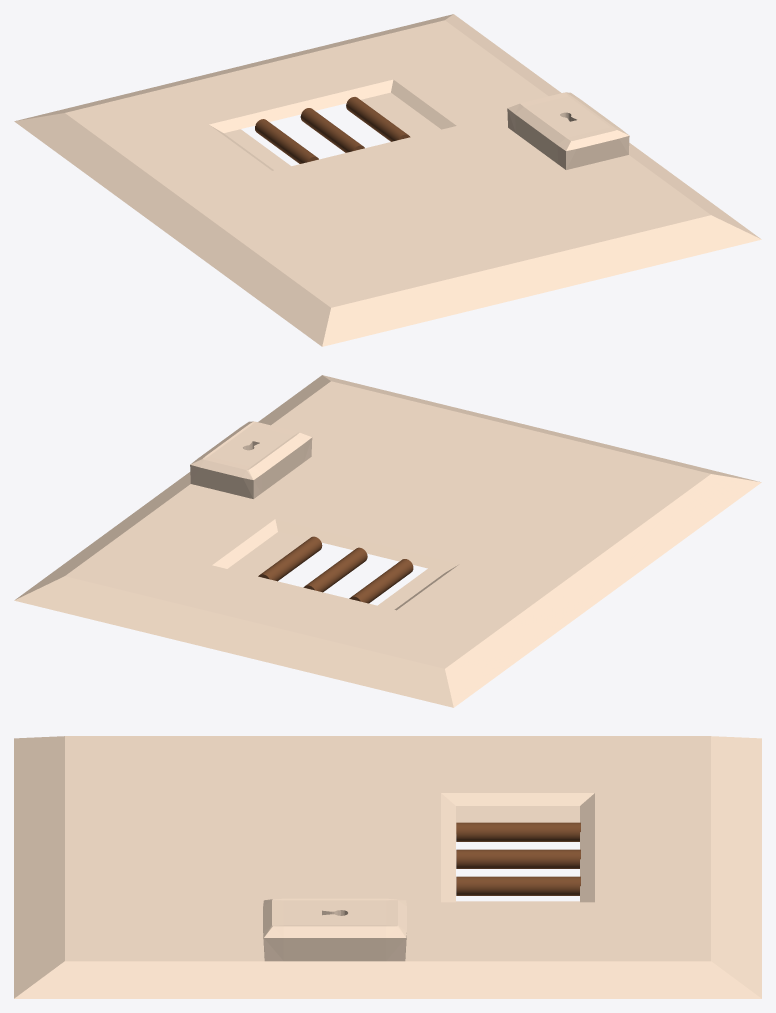
File: rouya.fbx
3 views of the same model, one above another, from view 1: azimuth 30°, elevation 25°; view 2: azimuth 150°, elevation 25°; view 3: azimuth 270°, elevation 25° (orthographic). The views are drawn at different scales.
Visible parts, largest first — view 1: pCube1, pCylinder2, pCylinder1, pCylinder3; view 2: pCube1, pCylinder1, pCylinder2, pCylinder3; view 3: pCube1, pCylinder2, pCylinder3, pCylinder1.
Part boxes in pixels (bbox=[...]): pCube1: bbox=[14, 14, 761, 346]; pCylinder2: bbox=[300, 108, 364, 152]; pCylinder1: bbox=[255, 119, 318, 163]; pCylinder3: bbox=[346, 97, 410, 141]; pCube1: bbox=[14, 375, 761, 707]; pCylinder1: bbox=[349, 559, 413, 603]; pCylinder2: bbox=[303, 547, 367, 592]; pCylinder3: bbox=[258, 536, 322, 581]; pCube1: bbox=[14, 736, 761, 998]; pCylinder2: bbox=[456, 849, 580, 868]; pCylinder3: bbox=[456, 876, 580, 895]; pCylinder1: bbox=[456, 822, 580, 841].
Bounding box in the file's own units: 7.3 × 0.6532 × 8.86.
